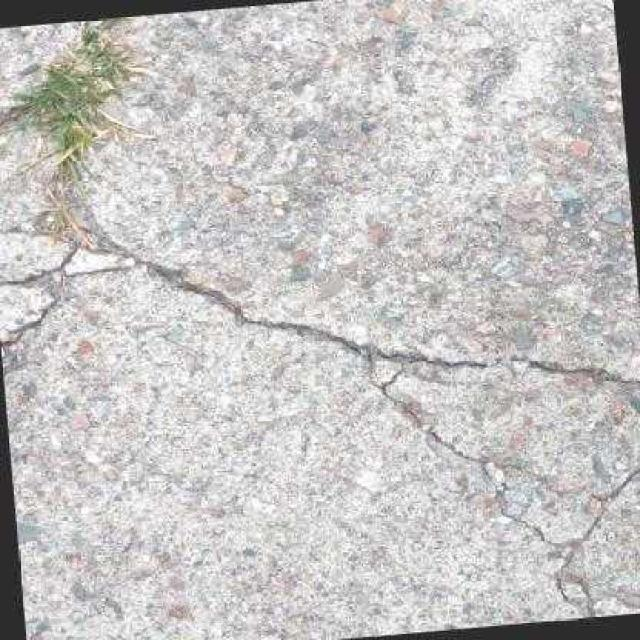D00: (88, 244, 486, 369), (489, 455, 640, 618), (375, 386, 524, 475), (534, 358, 640, 387)
